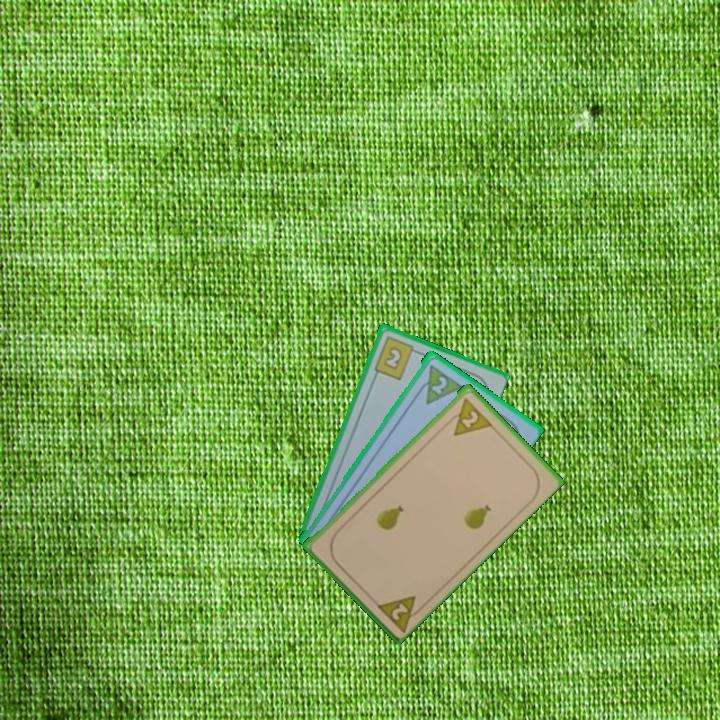2b: (370, 332, 421, 382)
2p: (372, 591, 427, 634), (442, 394, 494, 439), (428, 372, 450, 397)
